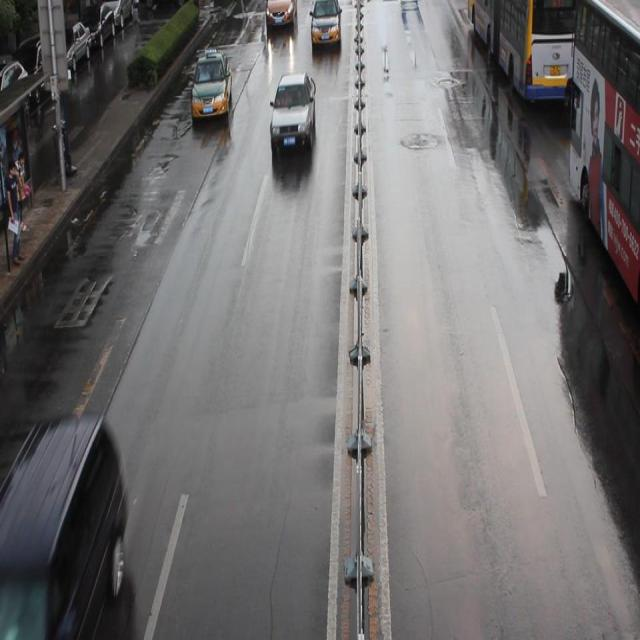car: (269, 72, 316, 151), (191, 47, 231, 120), (310, 1, 341, 46), (266, 1, 297, 31)
truck: (0, 416, 126, 640)
van: (566, 2, 640, 310), (464, 1, 587, 101)
